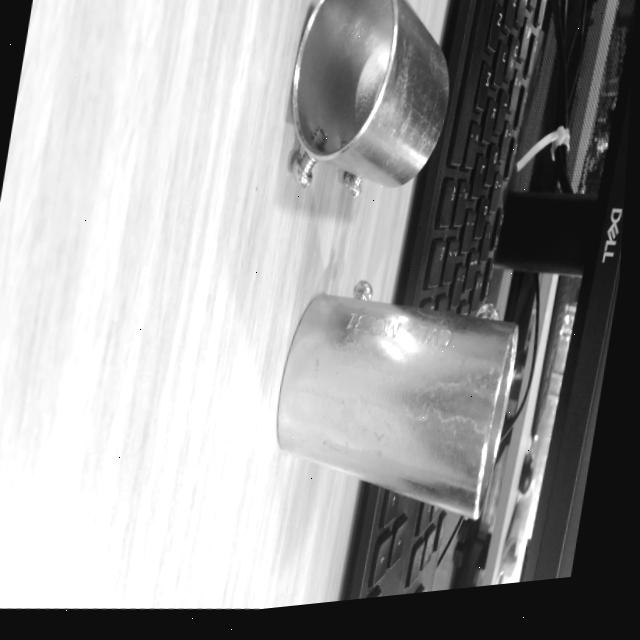Co_Lon: (259, 258, 530, 526)
Co_Nho: (290, 0, 448, 202)
